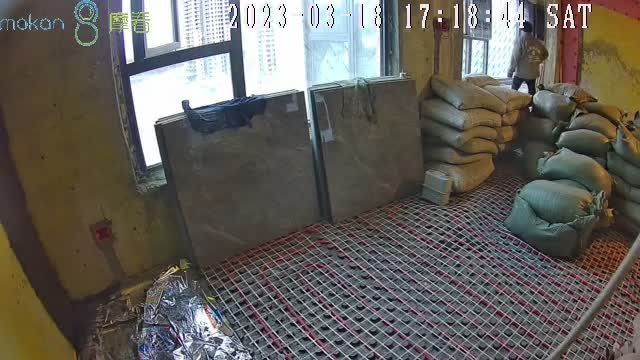people: (506, 21, 550, 94)
window: (127, 1, 383, 117), (462, 1, 534, 79)
